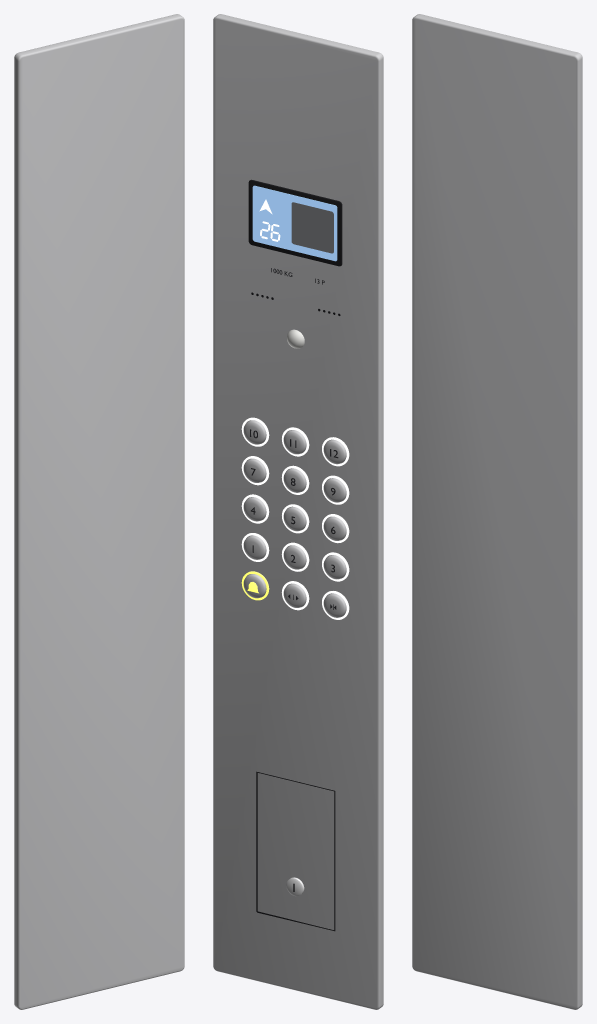
The model's file is cop_HCP29.glb.
The picture shows the model from 3 angles, left to right: view 1: azimuth 30°, elevation 25°; view 2: azimuth 150°, elevation 25°; view 3: azimuth 330°, elevation 25°; orthographic projection.
Visible parts, largest first — view 1: COP_Plate; view 2: COP_Plate, COP_Display, COP_Display_Panel, COP_Display_Frame, COP_Cabinet_Joint, COP_Btn_1_Cap, COP_Btn_Close_Cap, COP_Btn_6_Cap, COP_Btn_7_Cap, COP_Btn_4_Cap, COP_Btn_Open_Cap, COP_Btn_8_Cap (+7 smaller); view 3: COP_Plate.
Part boxes in pixels (x1=…): COP_Plate: x1=14, y1=14, x2=184, y2=1009; COP_Plate: x1=213, y1=14, x2=383, y2=1009; COP_Display: x1=252, y1=185, x2=337, y2=261; COP_Display_Panel: x1=291, y1=202, x2=333, y2=253; COP_Display_Frame: x1=248, y1=179, x2=342, y2=266; COP_Cabinet_Joint: x1=256, y1=771, x2=335, y2=931; COP_Btn_1_Cap: x1=243, y1=535, x2=266, y2=559; COP_Btn_Close_Cap: x1=323, y1=593, x2=346, y2=617; COP_Btn_6_Cap: x1=323, y1=516, x2=346, y2=540; COP_Btn_7_Cap: x1=243, y1=458, x2=266, y2=482; COP_Btn_4_Cap: x1=243, y1=497, x2=266, y2=521; COP_Btn_Open_Cap: x1=283, y1=583, x2=306, y2=607; COP_Btn_8_Cap: x1=283, y1=468, x2=306, y2=492; COP_Plate: x1=412, y1=14, x2=582, y2=1009.
Size of the model in its own units: 0.15 by 0.82 by 0.013.
